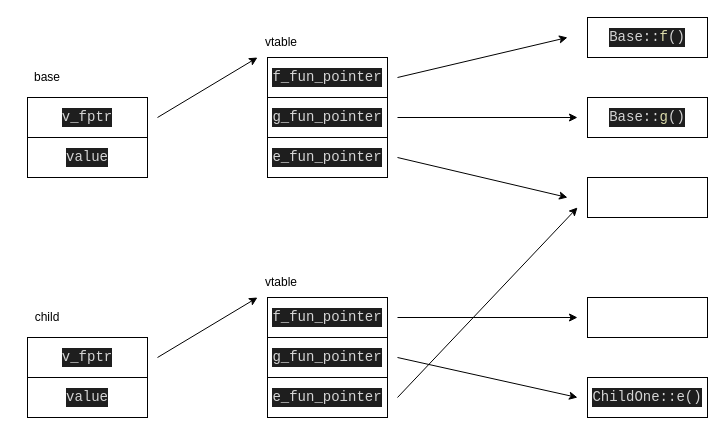
This 725x435 diagram has some shape labels left out. Here are the shapes that lost their labels. From the top down, the centre of each, then its label:
the point at 647,197: Base:: e ()
the point at 647,317: ChildOne:: f ()
